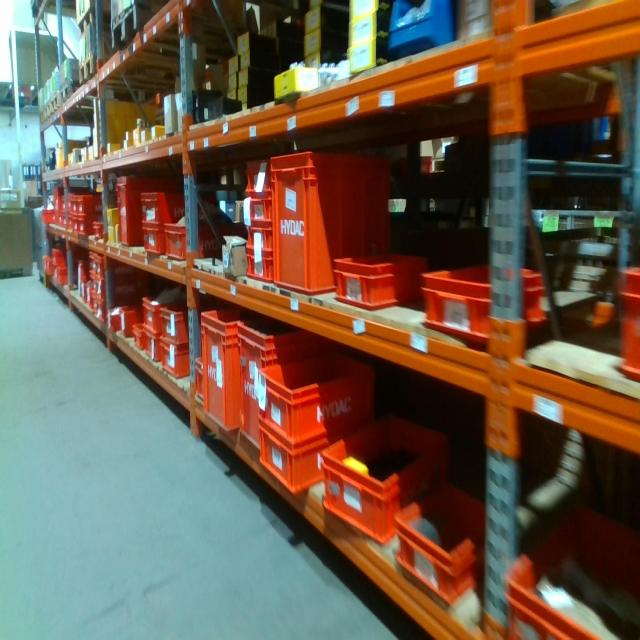pallet: (111, 2, 155, 55), (80, 46, 113, 94), (77, 8, 113, 43), (60, 81, 80, 104), (51, 92, 60, 113), (44, 99, 51, 118)
small_load_carrier: (507, 492, 637, 637), (322, 407, 450, 549), (272, 151, 397, 296), (237, 318, 341, 475), (395, 481, 491, 611), (255, 352, 378, 446), (202, 308, 277, 435), (419, 269, 552, 335), (257, 423, 328, 499), (332, 253, 423, 312), (116, 173, 171, 249), (166, 218, 231, 270), (617, 263, 639, 384), (138, 187, 198, 230), (159, 298, 195, 342), (161, 337, 196, 378), (97, 273, 145, 300), (194, 353, 216, 407), (245, 155, 274, 194), (138, 291, 164, 333), (143, 227, 172, 260), (95, 254, 144, 273), (245, 224, 274, 255), (246, 194, 274, 224), (248, 255, 274, 280), (120, 305, 136, 342), (76, 193, 105, 213), (79, 214, 105, 235), (133, 315, 147, 352), (145, 329, 160, 362), (91, 221, 108, 237), (97, 302, 108, 325), (85, 252, 96, 270), (91, 294, 99, 315), (79, 263, 84, 293), (73, 215, 80, 236), (90, 270, 96, 293), (73, 195, 79, 213), (81, 286, 87, 303)
